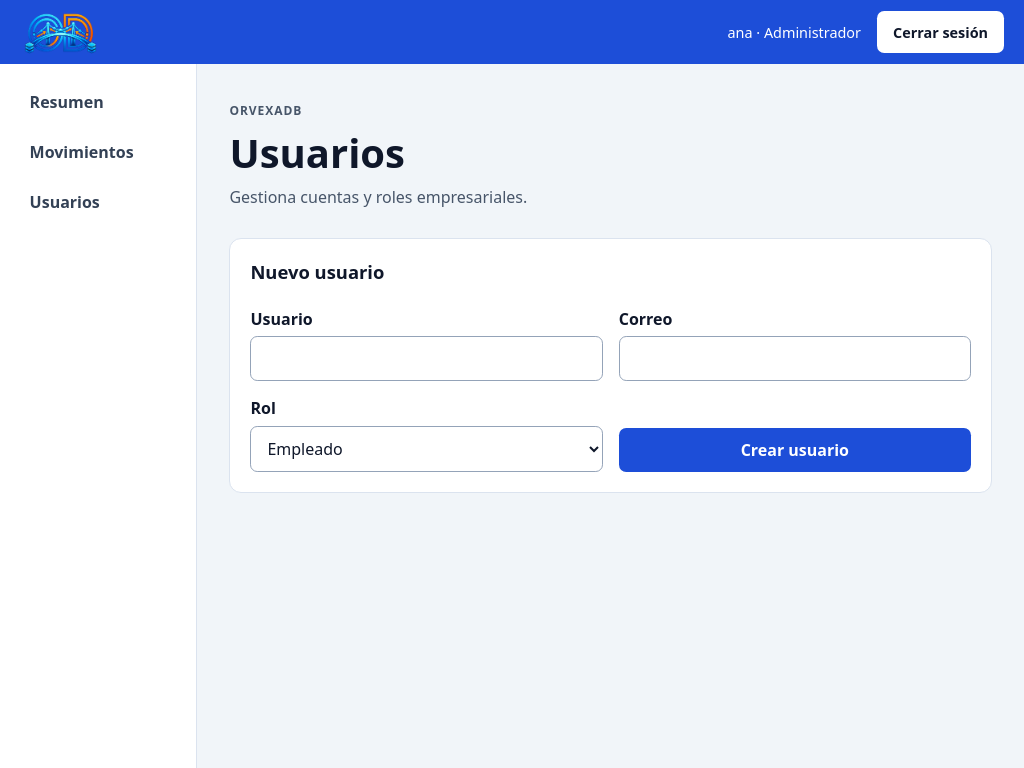
Test: flujos de aplicación › muestra y permite ocultar la contraseña temporal de un usuario creado
Expected: the heading "Usuarios" is shown, [229,125,405,180]
Type "employee" into the field labelled "Usuario" at (427, 359), box [250,336,603,381]
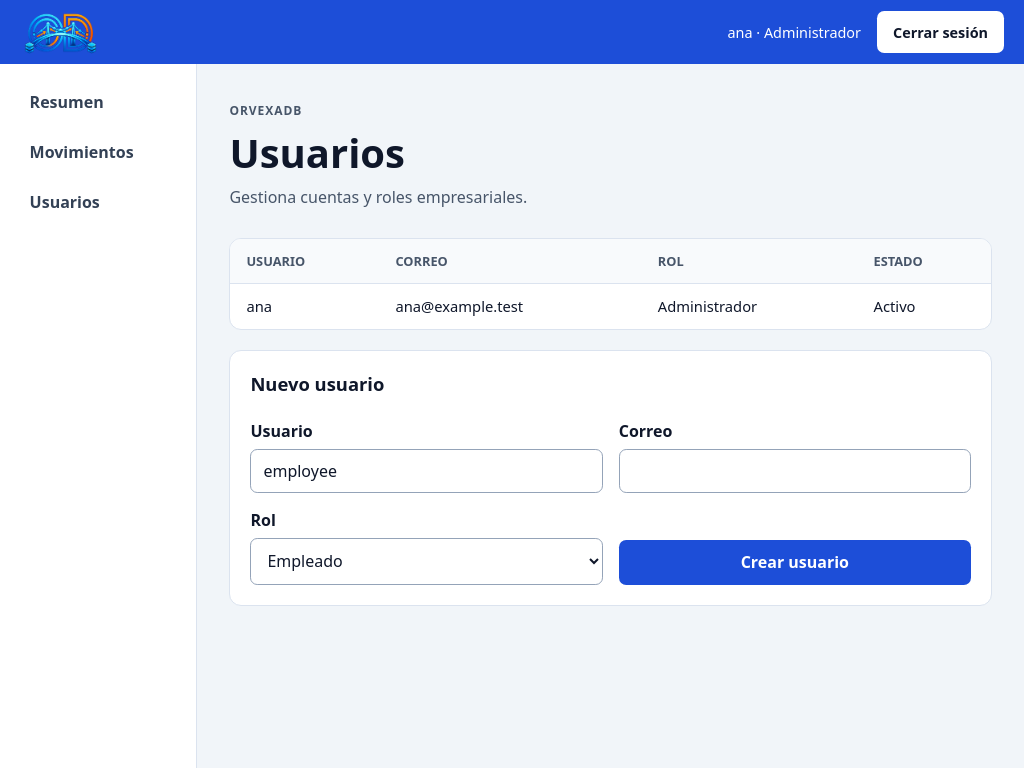
Type "employee@example.test" into the field labelled "Correo" at (795, 471), box [619,448,971,493]
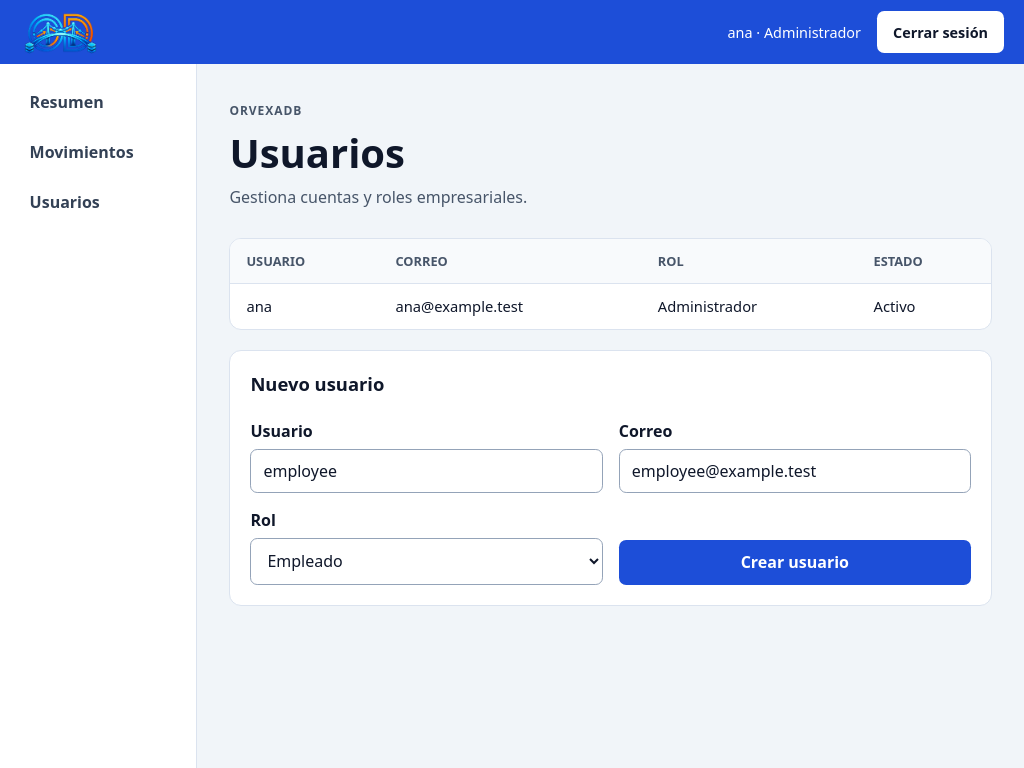
Submit the form "Crear usuario", box [250,420,971,584]
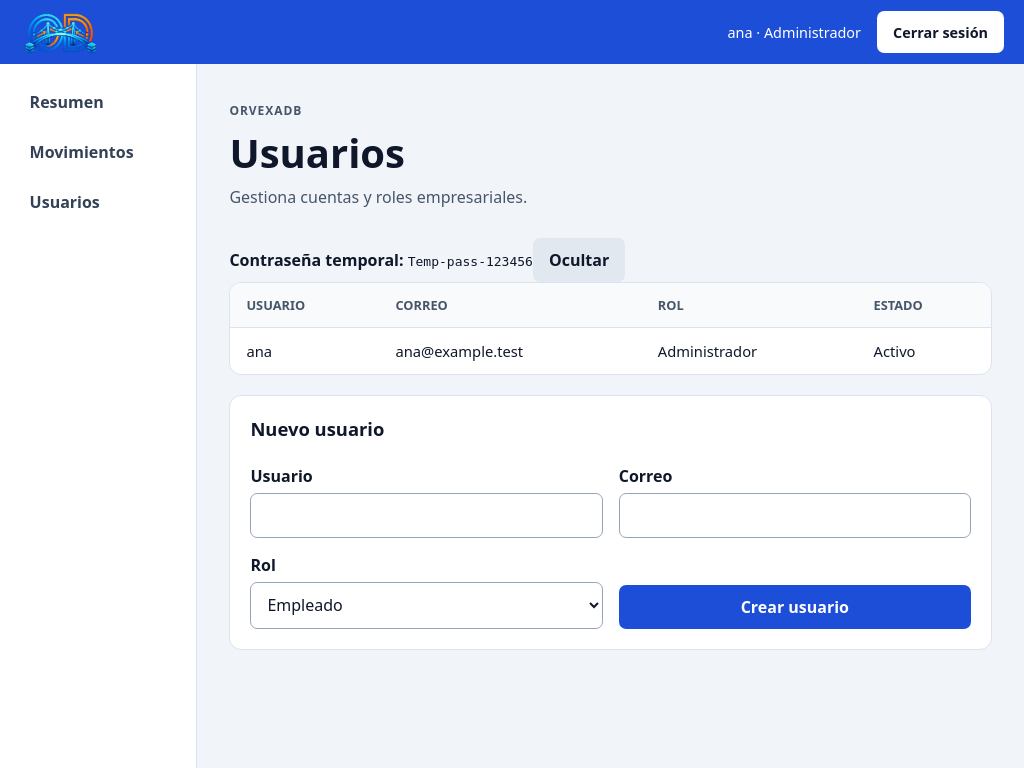
Expected: the message shows "Temp-pass-123456", [408,254,533,269]
Click the button "Ocultar" at (579, 260), box [533,238,625,282]
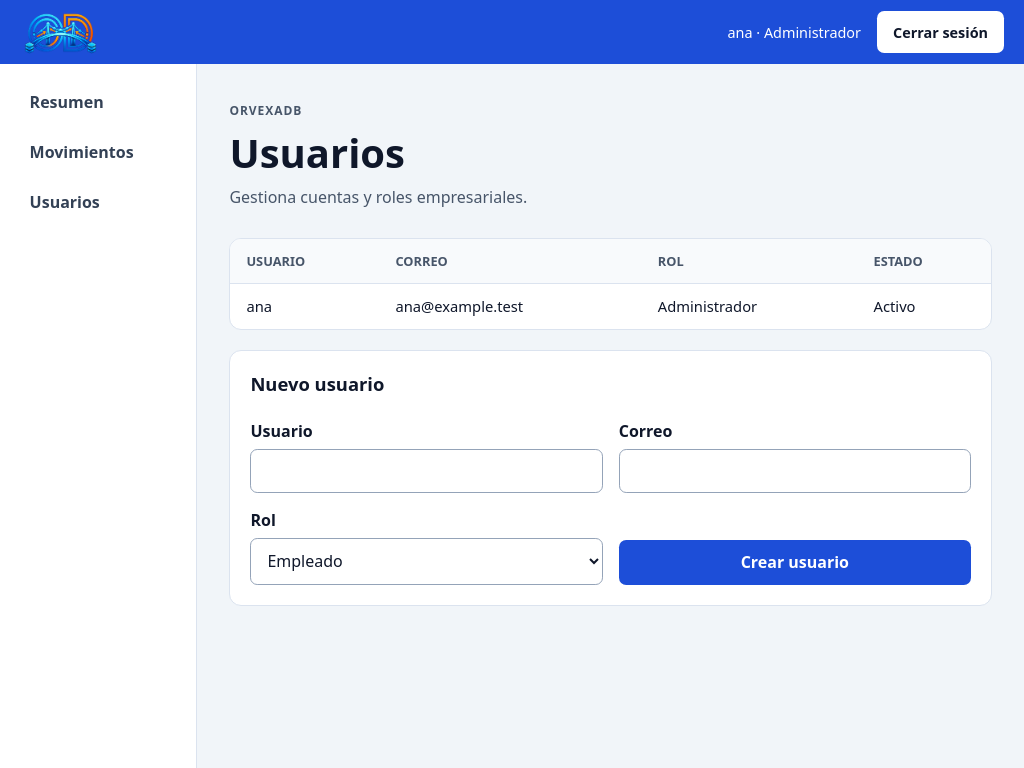
Expected: the message "Contraseña temporal: Temp-pass-123456 Ocultar" is gone
